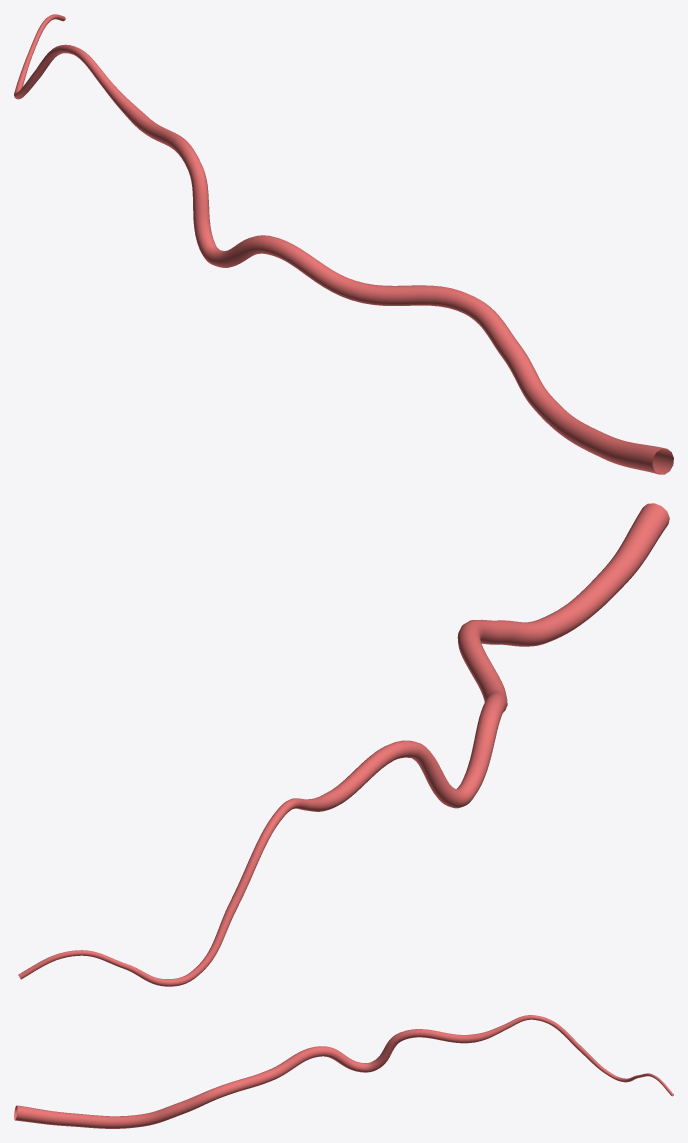
Rendered from Medial_occipital_artery.l_BezierCurve.213.glb.
The picture shows the model from 3 angles, top to bottom: view 1: azimuth 30°, elevation 25°; view 2: azimuth 150°, elevation 25°; view 3: azimuth 270°, elevation 25°; orthographic projection. The views are drawn at different scales.
Visible parts, largest first — view 1: Medial_occipital_artery.l_BezierCurve.213; view 2: Medial_occipital_artery.l_BezierCurve.213; view 3: Medial_occipital_artery.l_BezierCurve.213.
Boxes of the visible parts, <box> form: Medial_occipital_artery.l_BezierCurve.213: <box>14,14,673,474</box>; Medial_occipital_artery.l_BezierCurve.213: <box>18,503,669,986</box>; Medial_occipital_artery.l_BezierCurve.213: <box>14,1015,673,1128</box>.
Size of the model in its own units: 0.0107 by 0.00933 by 0.0689.
